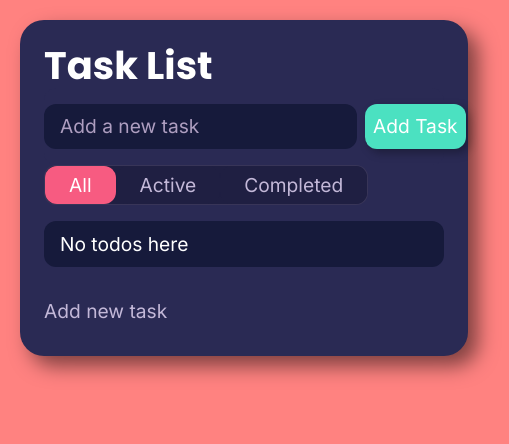
it: интеграционный для App › для юзера
This screenshot has width=509, height=444.
# новые задачи
Type "Task 1" into the field with placeholder "Add a new task" at (200, 126), box [44,104,357,149]
Click the button "Add Task" at (415, 126), box [365,104,466,149]
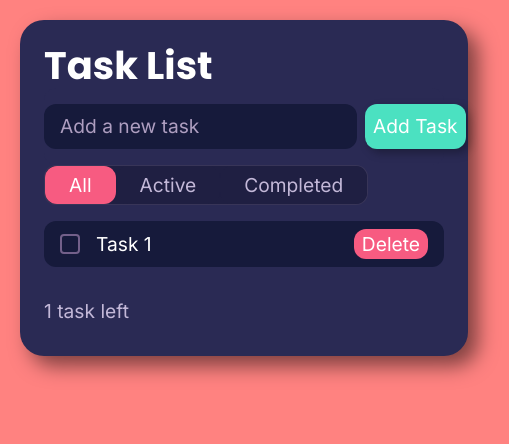
Type "Task 2" into the field with placeholder "Add a new task" at (200, 126), box [44,104,357,149]
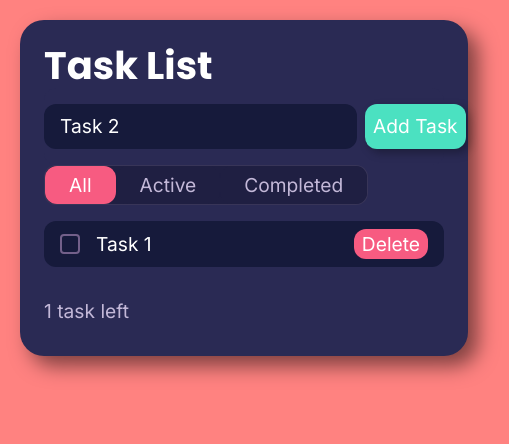
Click the button "Add Task" at (415, 126), box [365,104,466,149]
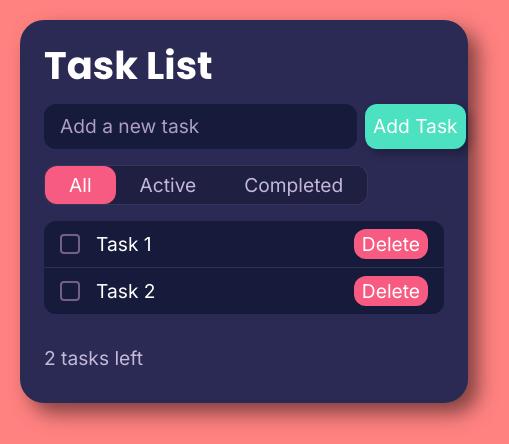
Expected: the text "Task 1" is shown, [88,233,152,255]
Expected: the text "Task 2" is shown, [88,280,156,302]
Expected: the text "2 tasks left" is shown, [44,347,143,369]
# чекбокс 
Click the checkbox labelled "Task 1" at (70, 244), box [60,234,80,254]
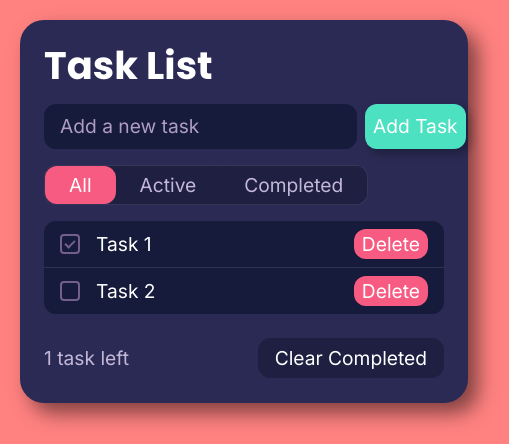
Expected: the text "1 task left" is shown, [44,347,129,369]
Click the button "Completed" at (294, 185), box [220,166,367,204]
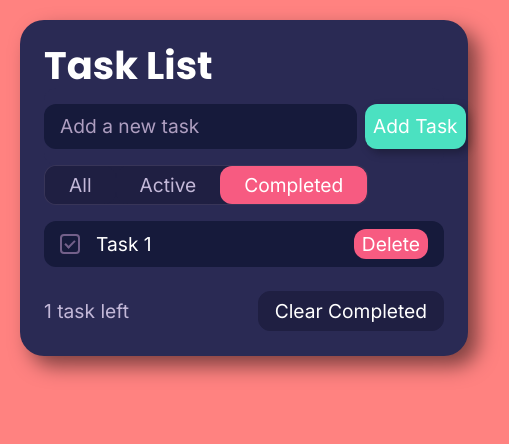
Expected: the text "Task 1" is shown, [88,233,152,255]
Expected: the text "Task 2" is gone
# удаление
Click the button with test id "delete-btn" at (391, 244), box [354,229,428,259]
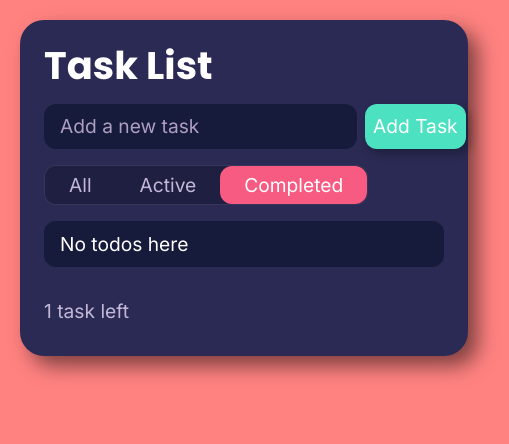
Expected: the text "Task 1" is gone
